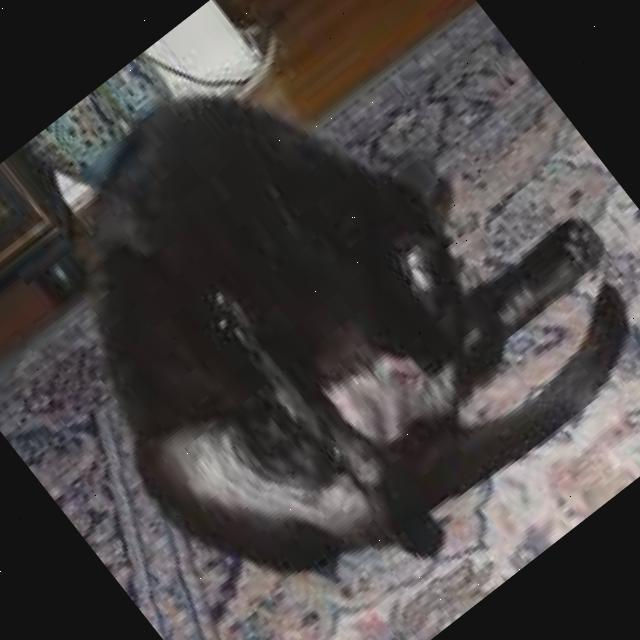cat-hairloss: (172, 419, 266, 522), (278, 458, 366, 546), (336, 369, 406, 442)
